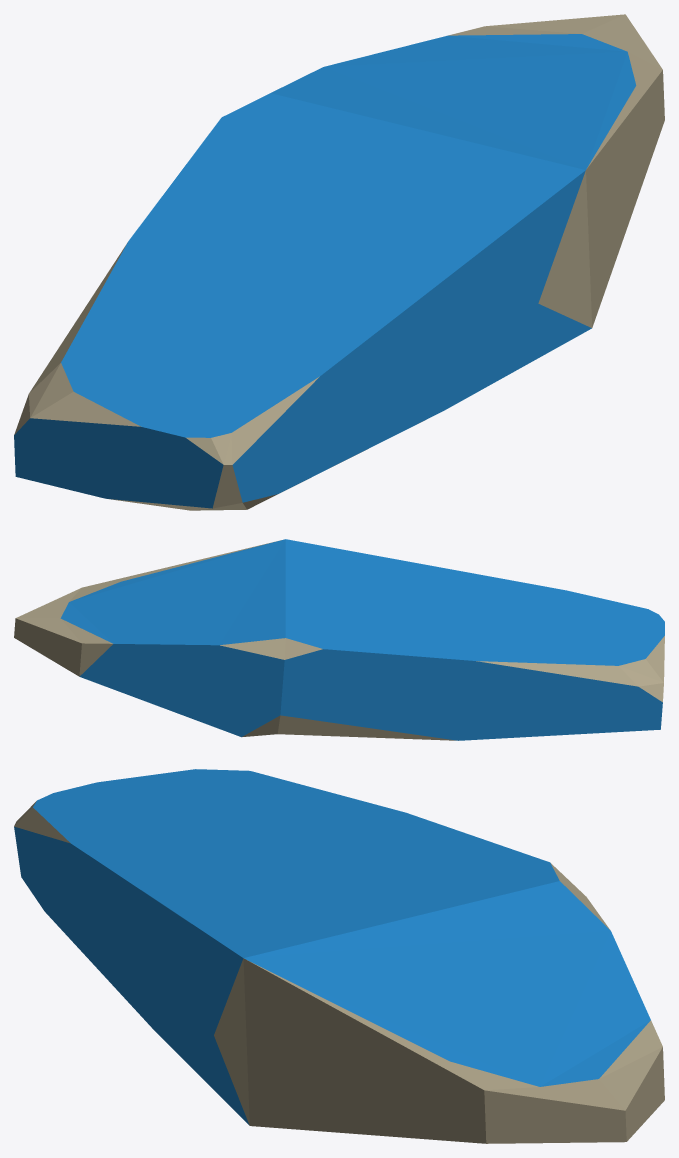
File: Railing_A_03.FBX
3 views of the same model, one above another, from view 1: azimuth 30°, elevation 25°; view 2: azimuth 150°, elevation 25°; view 3: azimuth 270°, elevation 25° (orthographic). The views are drawn at different scales.
Parts seen in each view (by area): view 1: Railing_A_03; view 2: Railing_A_03; view 3: Railing_A_03.
Boxes of the visible parts, x1,y1,x2,y2 form: Railing_A_03: [14, 14, 664, 510]; Railing_A_03: [14, 539, 664, 740]; Railing_A_03: [14, 769, 664, 1143].
Size of the model in its own units: 1.54 by 0.2951 by 1.07.
